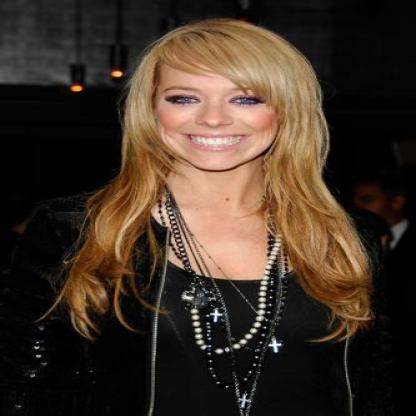long-hair: (61, 172, 366, 237)
